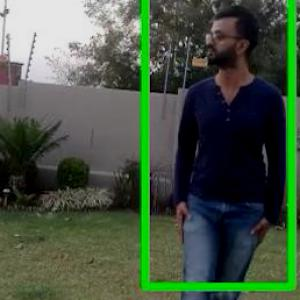follow: (180, 0, 282, 282)
